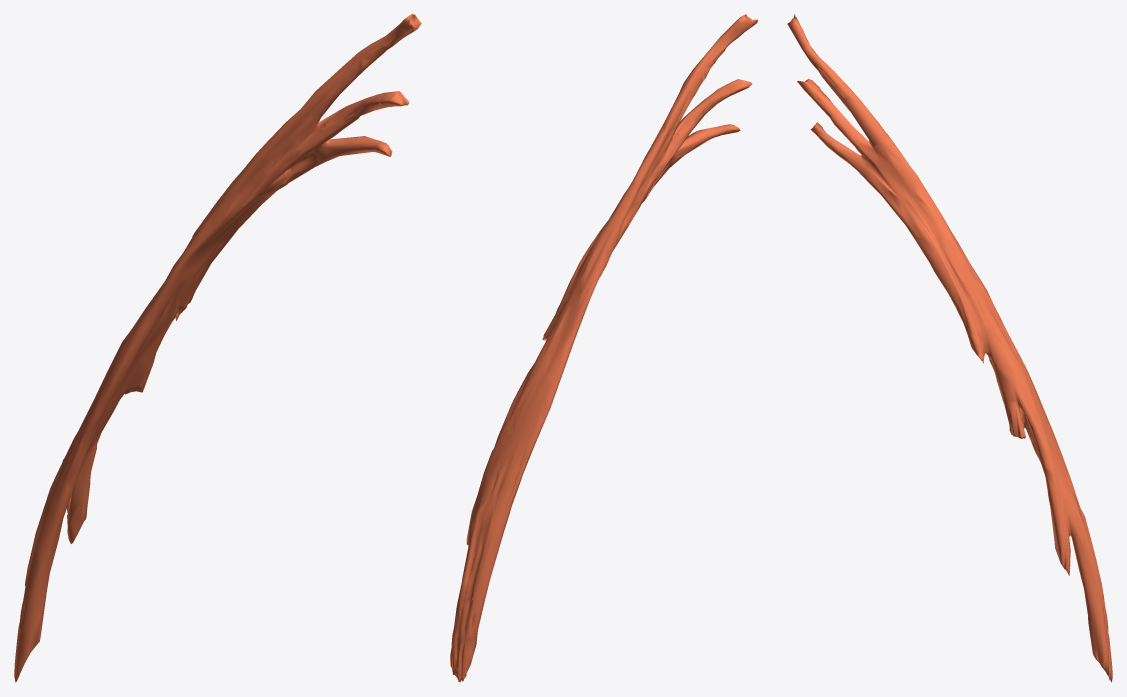
File: Iliocostalis_colli_left.glb
3 renders of one model, left to right at view 1: azimuth 90°, elevation 25°; view 2: azimuth 150°, elevation 25°; view 3: azimuth 270°, elevation 25°, orthographic. The views are drawn at different scales.
Parts seen in each view (by area): view 1: Iliocostalis_colli_muscle.l_Generated_Mesh_From_X3D.474; view 2: Iliocostalis_colli_muscle.l_Generated_Mesh_From_X3D.474; view 3: Iliocostalis_colli_muscle.l_Generated_Mesh_From_X3D.474.
Boxes of the visible parts, box(x1,y1,x2,y2) form: Iliocostalis_colli_muscle.l_Generated_Mesh_From_X3D.474: box(14, 14, 421, 682); Iliocostalis_colli_muscle.l_Generated_Mesh_From_X3D.474: box(450, 14, 758, 682); Iliocostalis_colli_muscle.l_Generated_Mesh_From_X3D.474: box(787, 14, 1112, 682).
Size of the model in its own units: 0.0505 by 0.1765 by 0.087.
